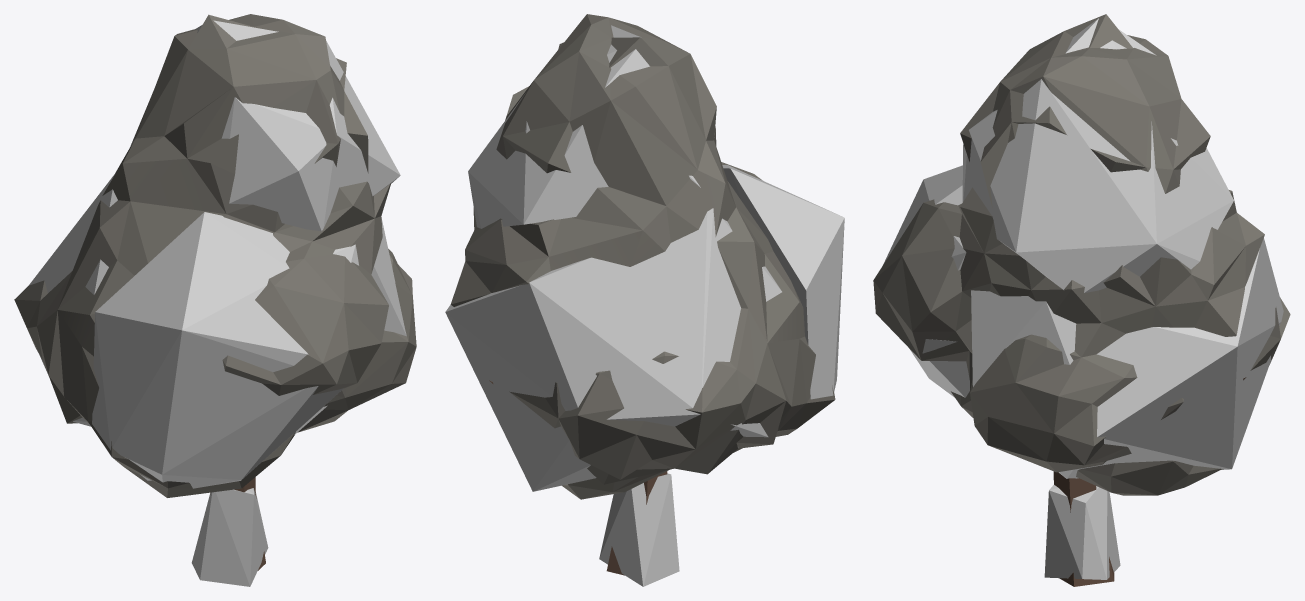
The model's file is SM_Env_Hedge_Shrub_01.fbx.
3 renders of one model, left to right at view 1: azimuth 30°, elevation 25°; view 2: azimuth 150°, elevation 25°; view 3: azimuth 270°, elevation 25°, orthographic. The views are drawn at different scales.
Parts seen in each view (by area): view 1: SM_Env_Hedge_Shrub_01, SM_Env_Hedge_Shrub_01_ConvexHulls; view 2: SM_Env_Hedge_Shrub_01, SM_Env_Hedge_Shrub_01_ConvexHulls; view 3: SM_Env_Hedge_Shrub_01, SM_Env_Hedge_Shrub_01_ConvexHulls.
Boxes of the visible parts, x1=… form: SM_Env_Hedge_Shrub_01: x1=14, y1=14, x2=416, y2=570; SM_Env_Hedge_Shrub_01_ConvexHulls: x1=29, y1=20, x2=406, y2=586; SM_Env_Hedge_Shrub_01: x1=450, y1=14, x2=835, y2=575; SM_Env_Hedge_Shrub_01_ConvexHulls: x1=445, y1=25, x2=844, y2=586; SM_Env_Hedge_Shrub_01: x1=873, y1=14, x2=1290, y2=586; SM_Env_Hedge_Shrub_01_ConvexHulls: x1=883, y1=18, x2=1283, y2=579.
Bounding box in the file's own units: 113 × 118 × 174.
Materials: 2 (1 with a texture image).
